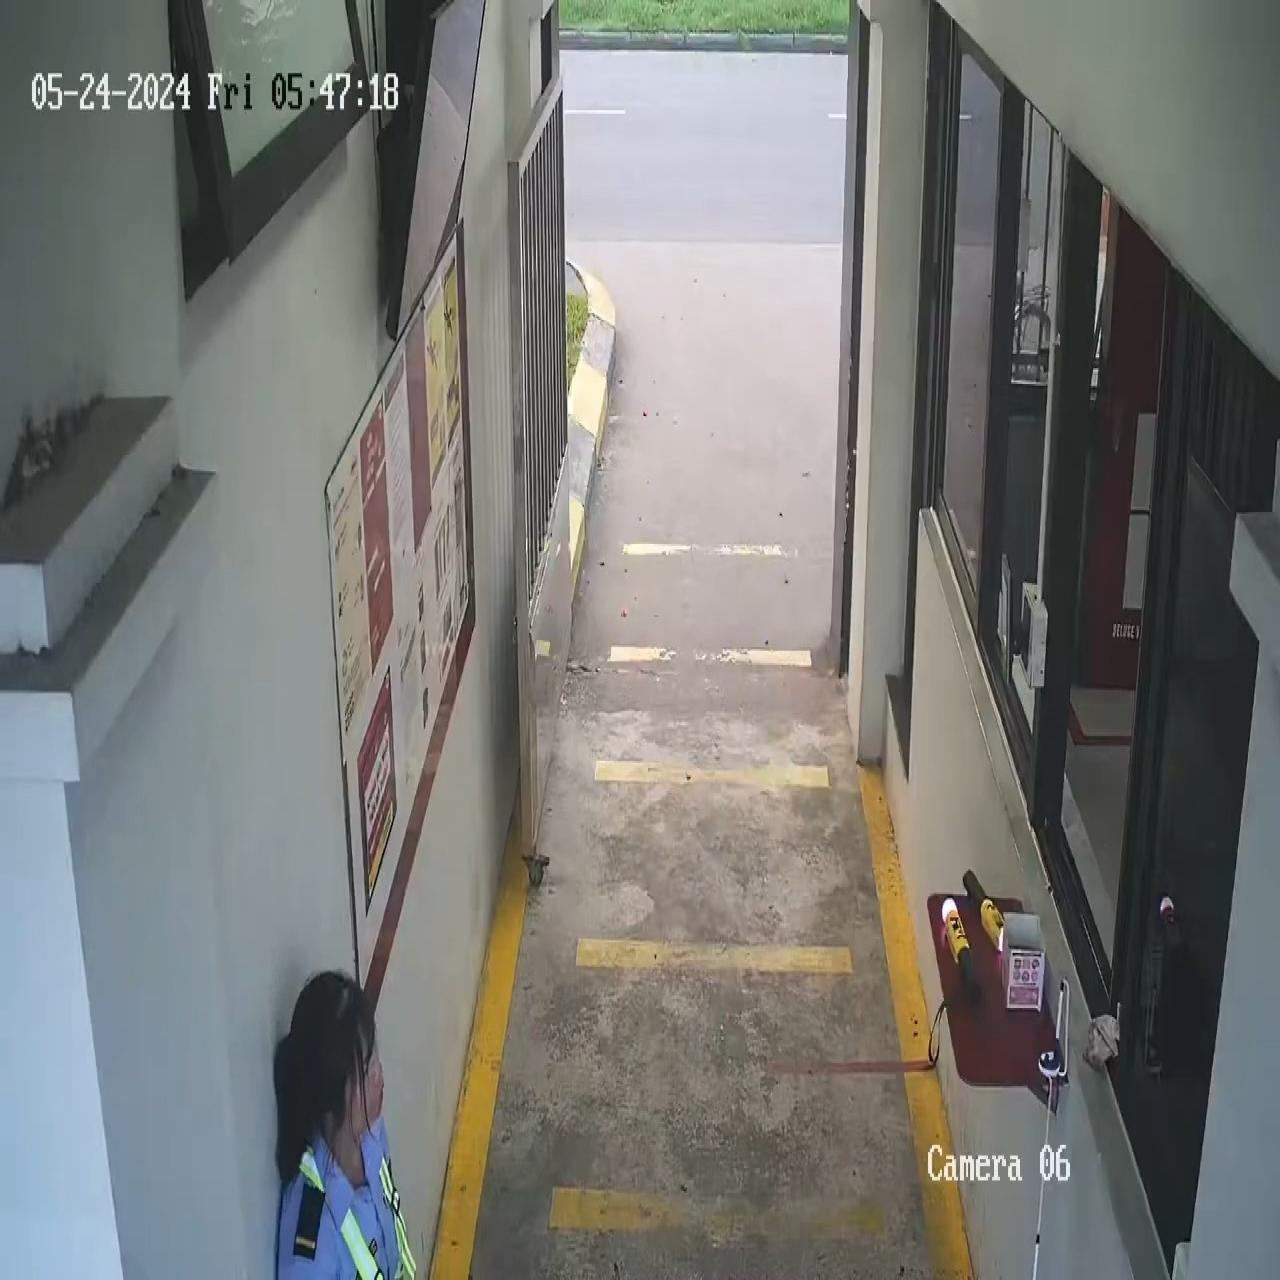breathalyzer: (933, 890, 982, 1047), (955, 866, 1013, 965)
guard: (270, 967, 418, 1276)
